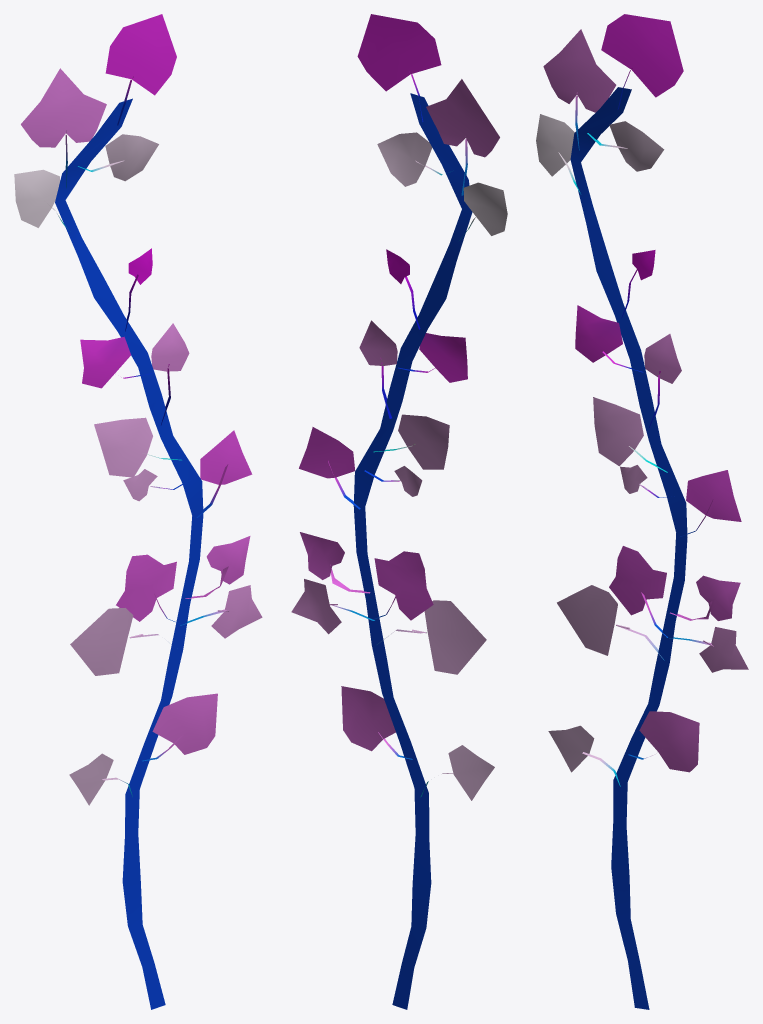
Rendered from English_Ivy_xfcnebhqx_High_xfcnebhqx_VarB_LOD2.fbx.
The picture shows the model from 3 angles, left to right: view 1: azimuth 30°, elevation 25°; view 2: azimuth 150°, elevation 25°; view 3: azimuth 330°, elevation 25°; orthographic projection.
Visible parts, largest first — view 1: _18nv_VarB_LOD2; view 2: _18nv_VarB_LOD2; view 3: _18nv_VarB_LOD2.
Boxes of the visible parts, x1=… form: _18nv_VarB_LOD2: x1=14, y1=14, x2=262, y2=1009; _18nv_VarB_LOD2: x1=291, y1=14, x2=507, y2=1009; _18nv_VarB_LOD2: x1=536, y1=14, x2=748, y2=1009.
Size of the model in its own units: 18 by 73.46 by 3.27.
